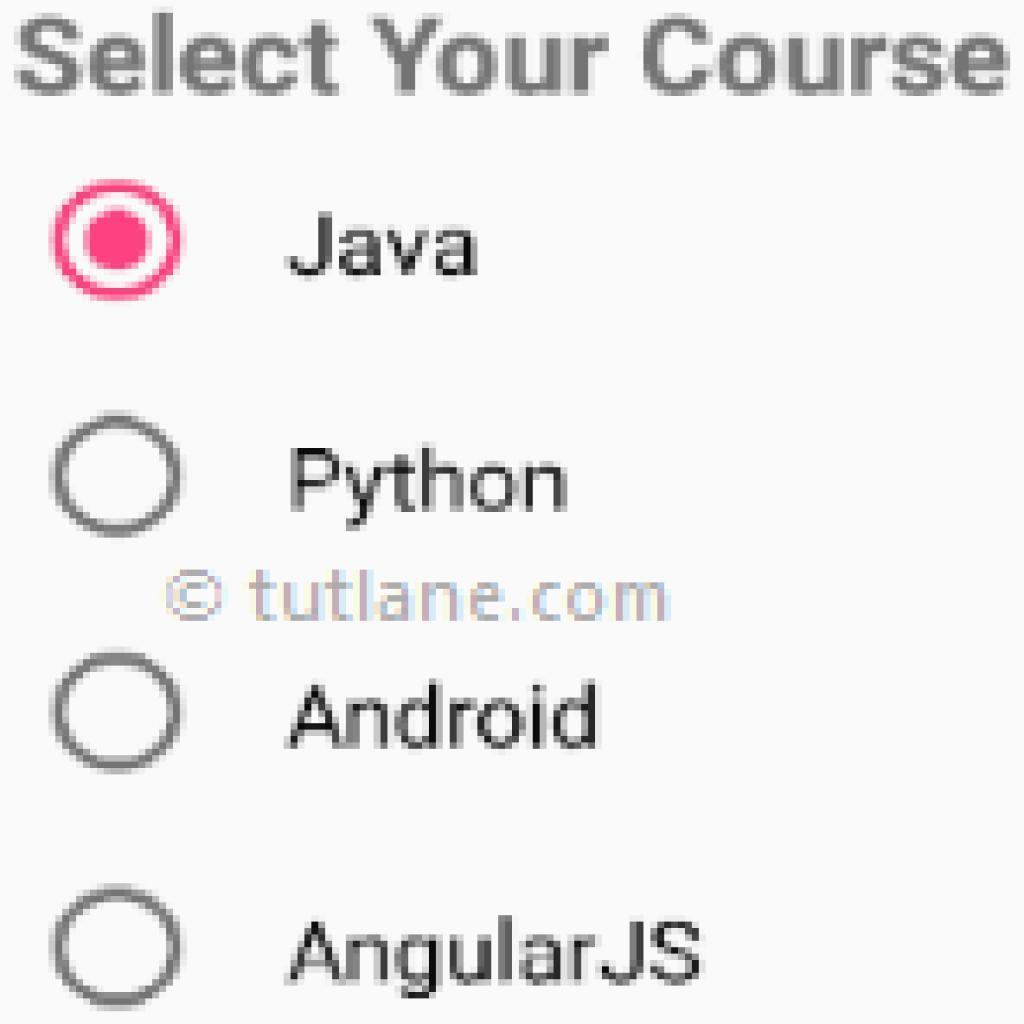radio: (43, 176, 190, 304), (51, 411, 188, 542), (50, 879, 185, 1008), (54, 648, 186, 775)
